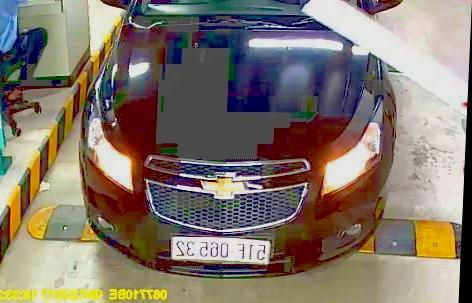License_Plate: (168, 232, 274, 264)
